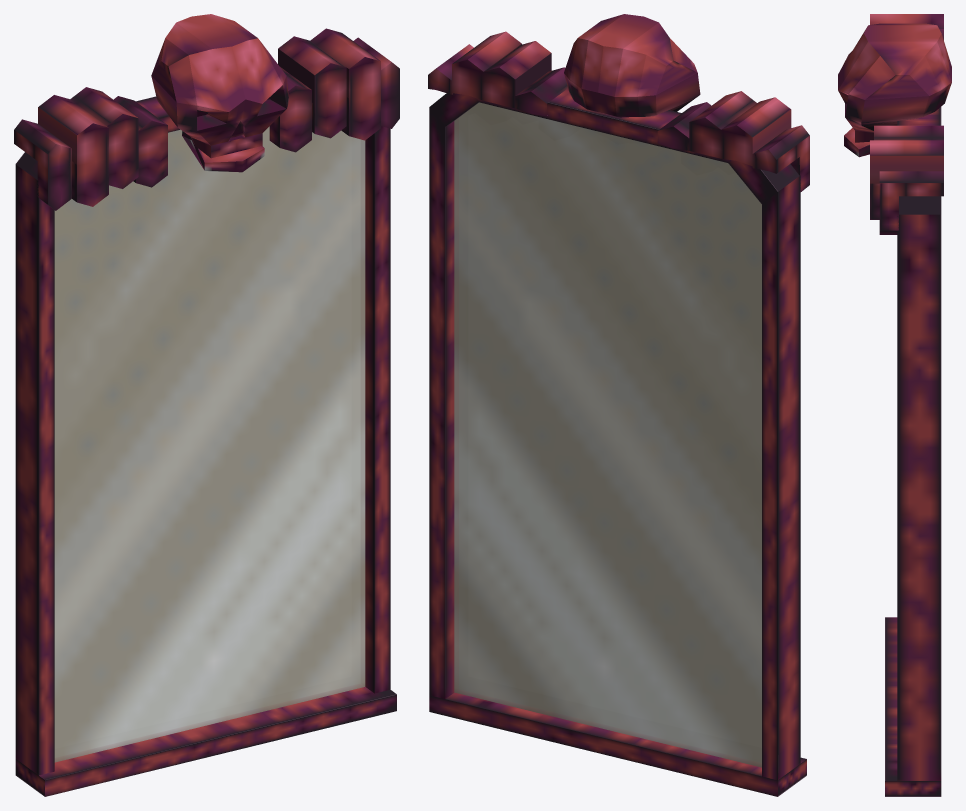
File: Inside_Poly_Mirror_02.obj
3 views of the same model, side by side, from view 1: azimuth 30°, elevation 25°; view 2: azimuth 150°, elevation 25°; view 3: azimuth 270°, elevation 25° (orthographic). The views are drawn at different scales.
Visible parts, largest first — view 1: Cube.001, Cube.004; view 2: Cube.001, Cube.004; view 3: Cube.004.
Part boxes in pixels (x1,y1,x2,y2): Cube.001: (54,126,365,762); Cube.004: (14,14,399,796); Cube.001: (454,102,761,767); Cube.004: (428,14,809,796); Cube.004: (838,14,951,796).
Size of the model in its own units: 0.4399 by 0.8549 by 0.1295.
Materials: 2 (2 with a texture image).
